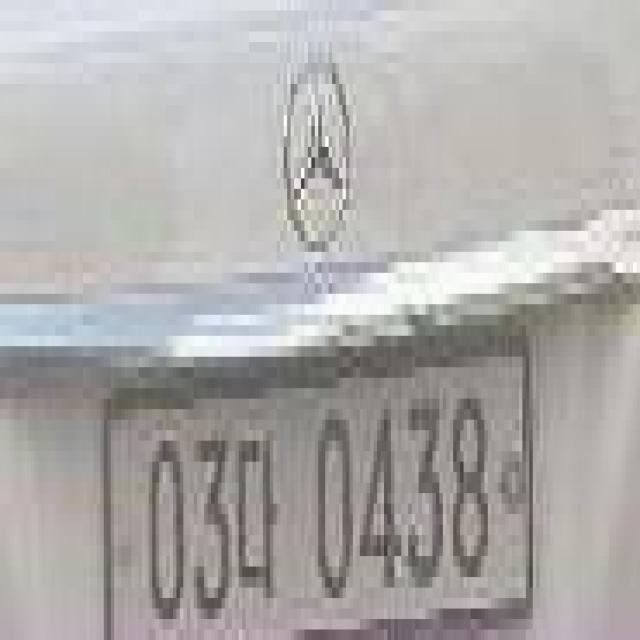illegal_plate: (104, 343, 538, 640)
